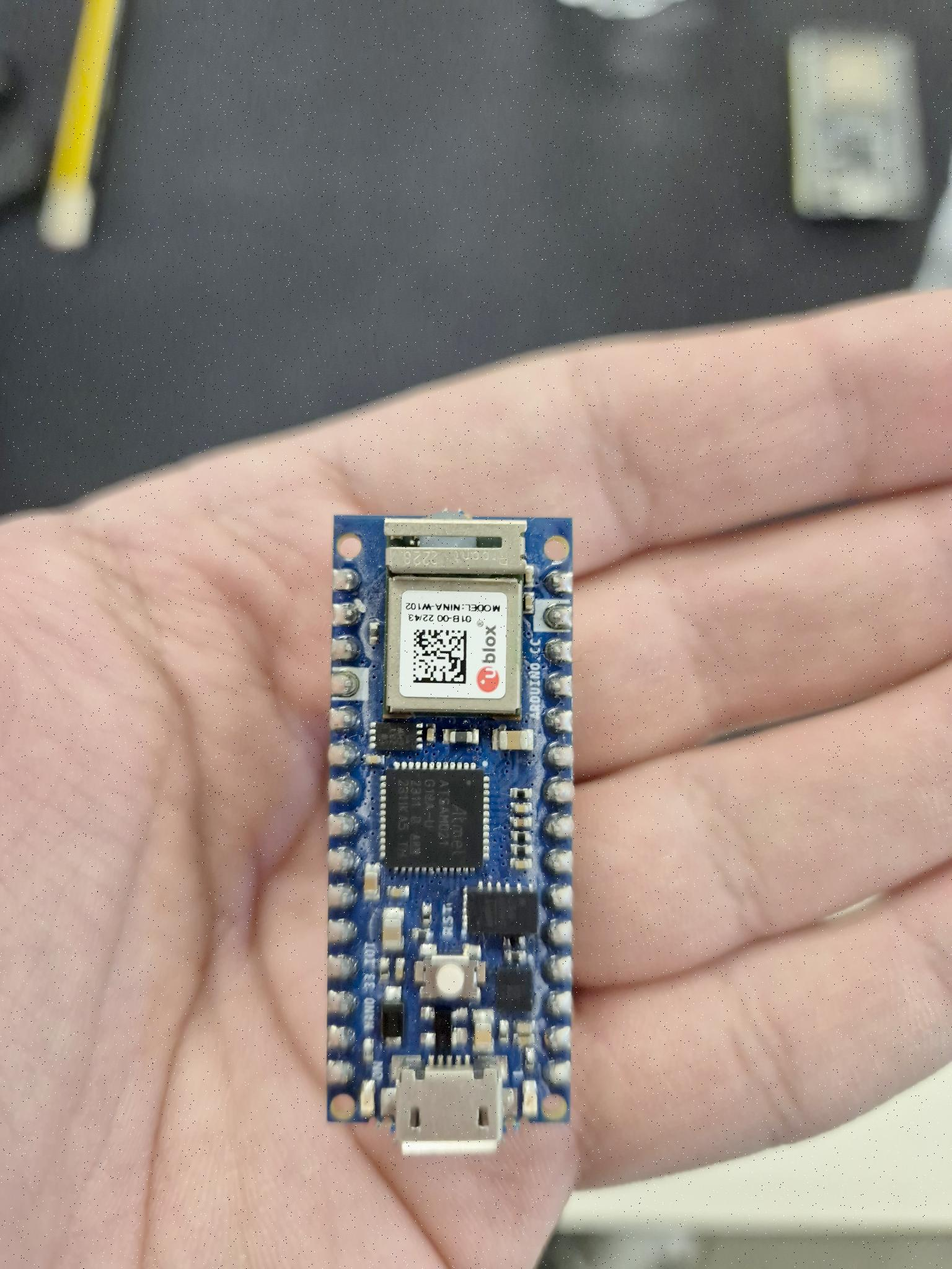arduino-nano-iot-33: (330, 509, 570, 1134)
